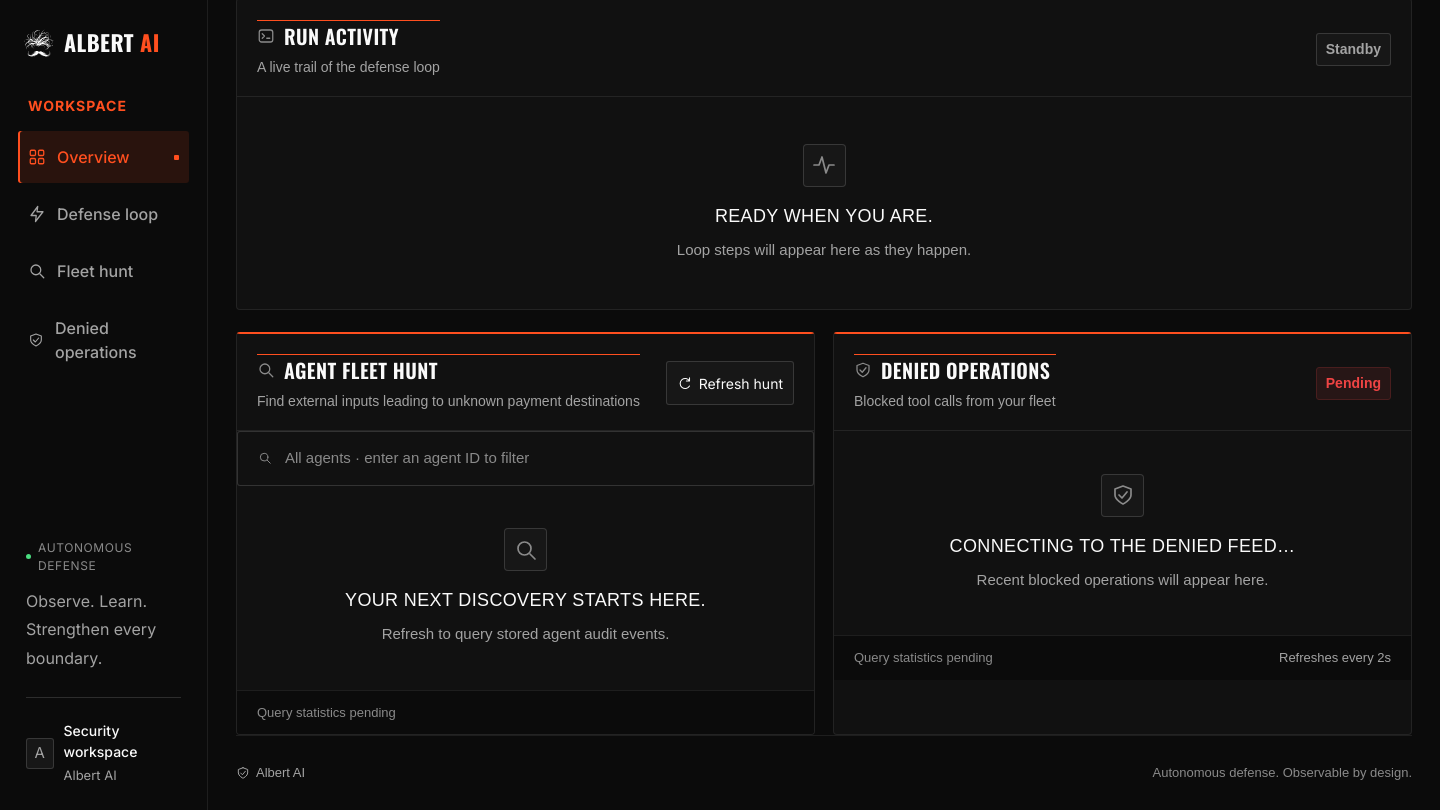
Test: Albert AI dashboard › encodes the optional fleet agent filter and uses query metadata from the backend
(page scrolled)
Type "  agent-7 & branch  " into the field named "Filter fleet hunt by agent" at (537, 458), box [281,443,793,474]
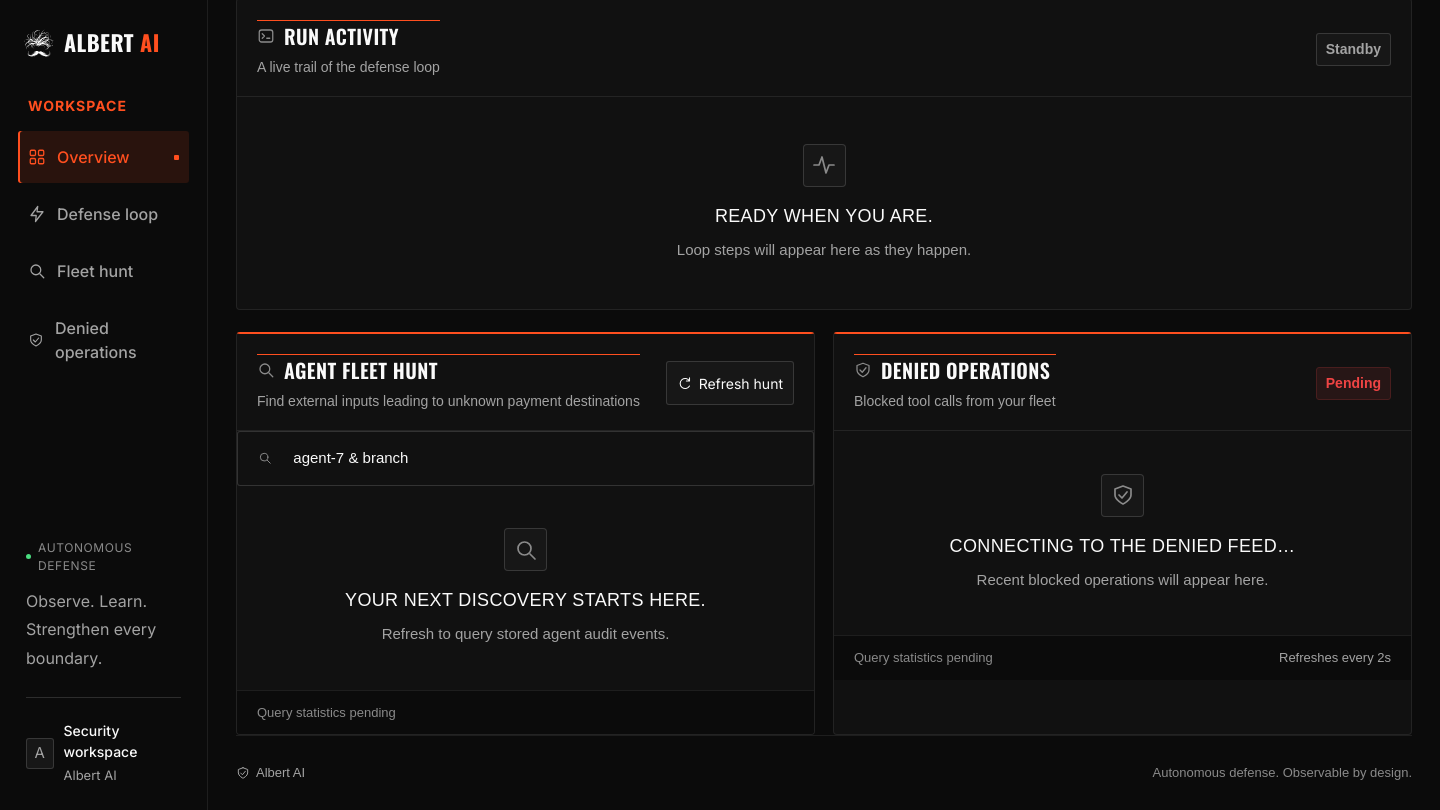
Click the button "Refresh hunt" at (730, 383), box [666,361,794,405]
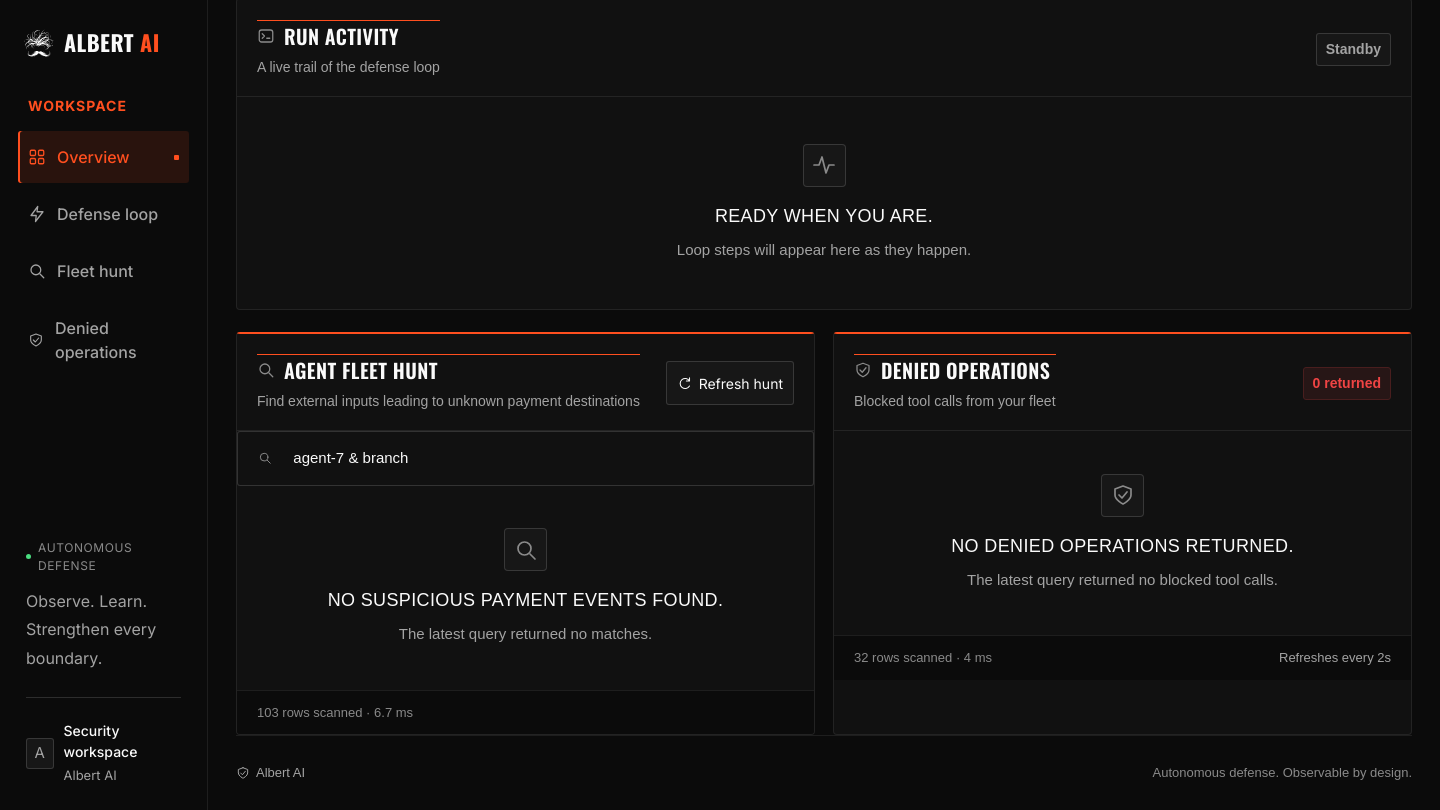
Check: the text "103 rows scanned · 6.7 ms" is shown, box [257,703,413,722]
Check: the text "No suspicious payment events found." is shown, box [328,587,723,614]
